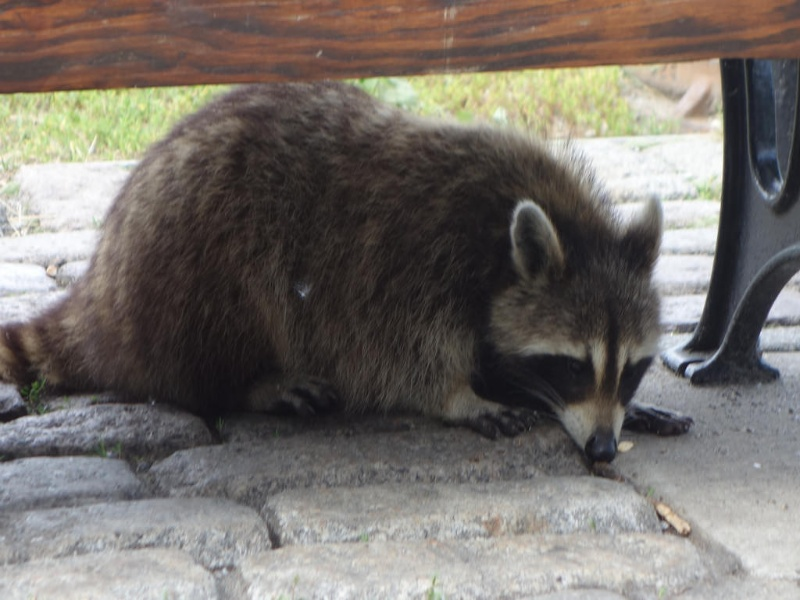raccoon: (1, 81, 697, 478)
